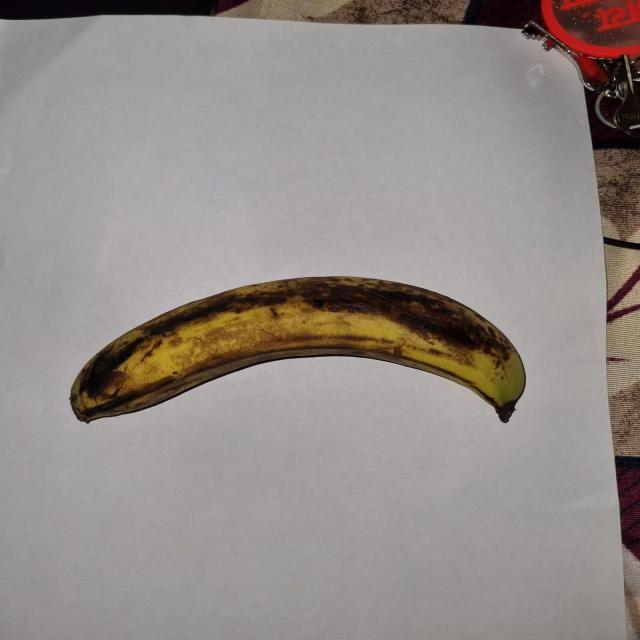Overripe: (43, 258, 540, 448)
